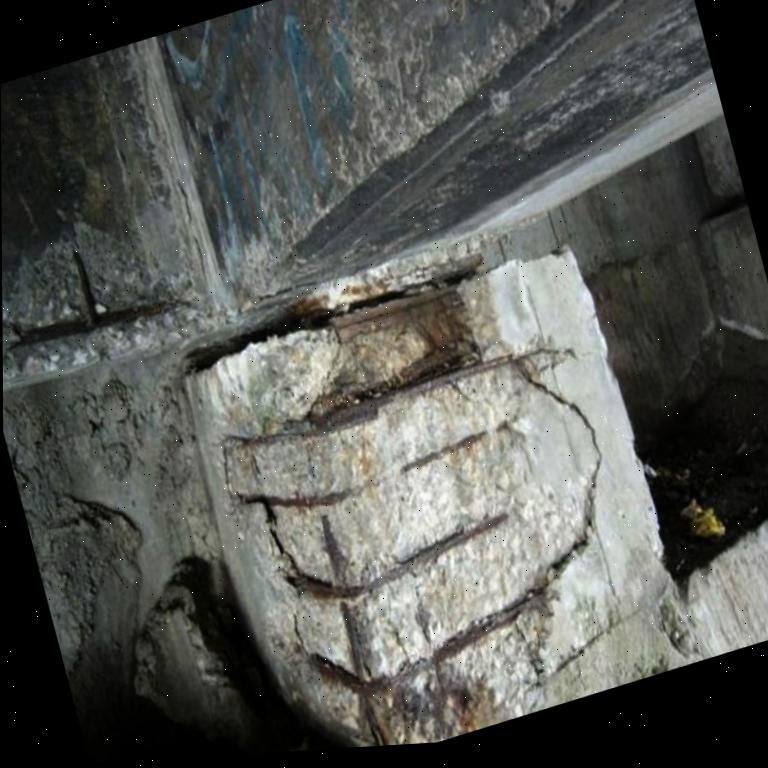exposed_rebar: (313, 572, 553, 746), (287, 513, 507, 598), (19, 250, 168, 345), (240, 488, 354, 523), (402, 433, 489, 473), (492, 422, 509, 433)
spalling: (213, 290, 600, 747), (3, 220, 205, 385)
